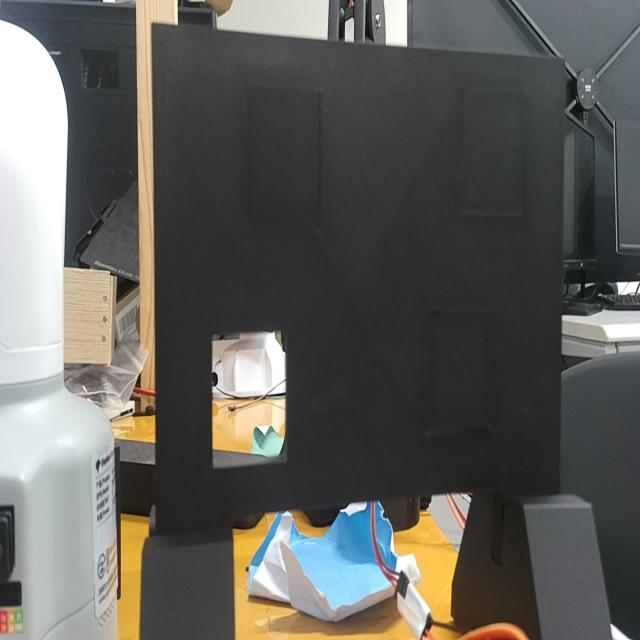Obstacle: (212, 331, 287, 464)
Wall: (152, 23, 565, 520)
